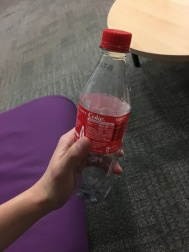bottle_red: (66, 21, 138, 214)
